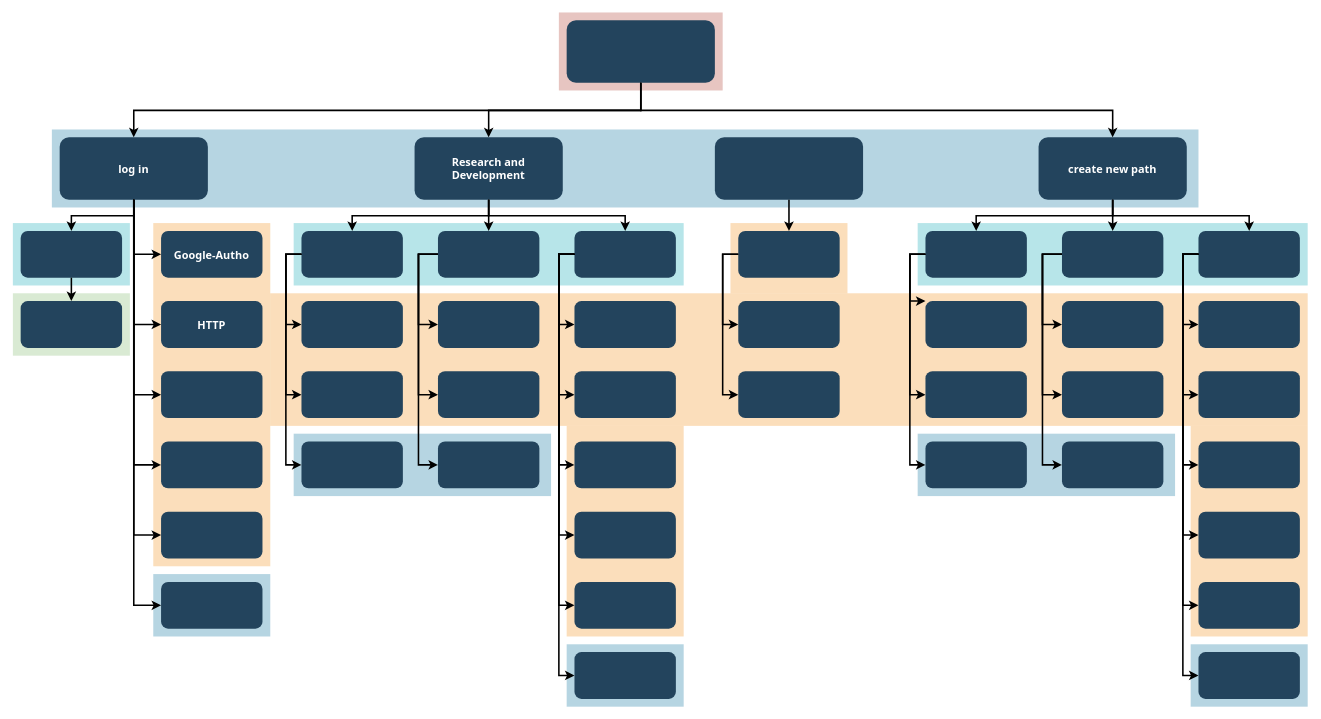
Image size: 1321x719. Some labels were removed from this diagram. The box of each missing label's shape, as (x1, y1, x2, y2) in pixels:
create account: (20, 230, 122, 277)
homepage: (566, 20, 714, 82)
Technical Support: (714, 137, 863, 199)
